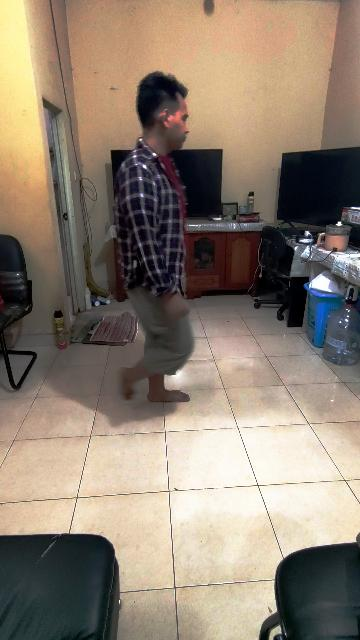berjalan: (112, 69, 198, 409)
